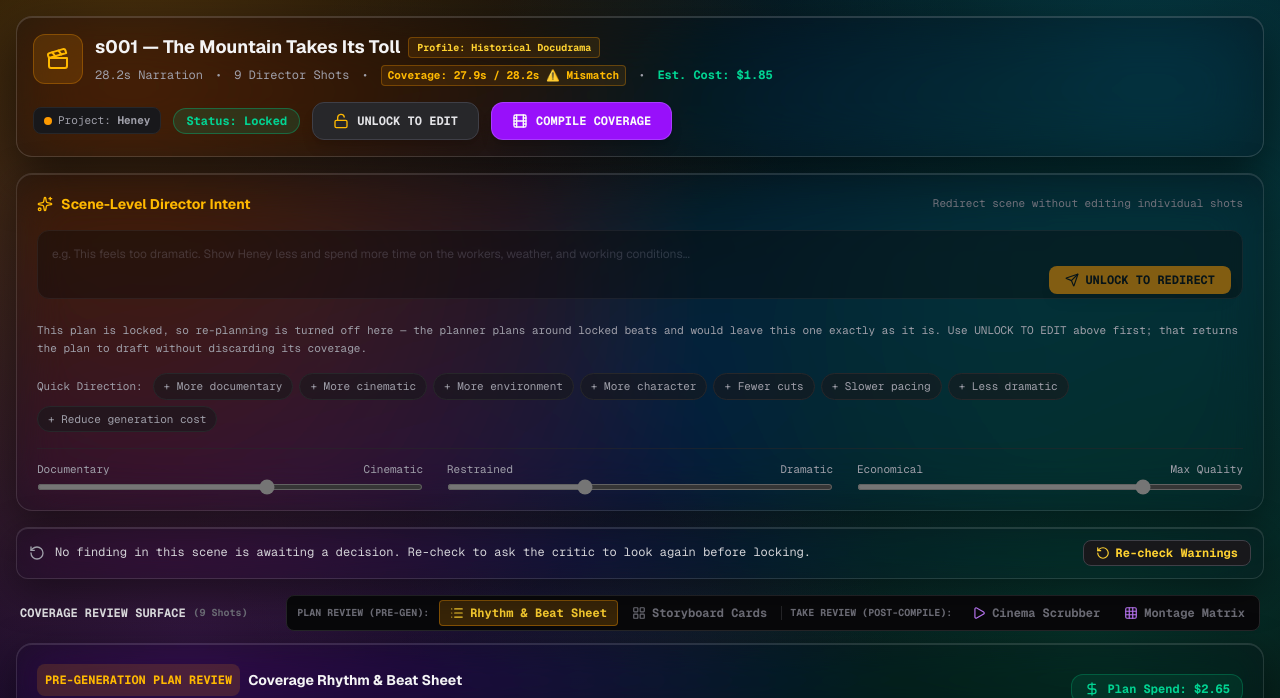
Scenario: the control the studio did not have › pressing COMPILE COVERAGE commits no money
What coordinates should you click on to do the following:
click the button with test id "compile-open-gate"
I would click on:
 (582, 121)
Its box is [491,102,672,140].
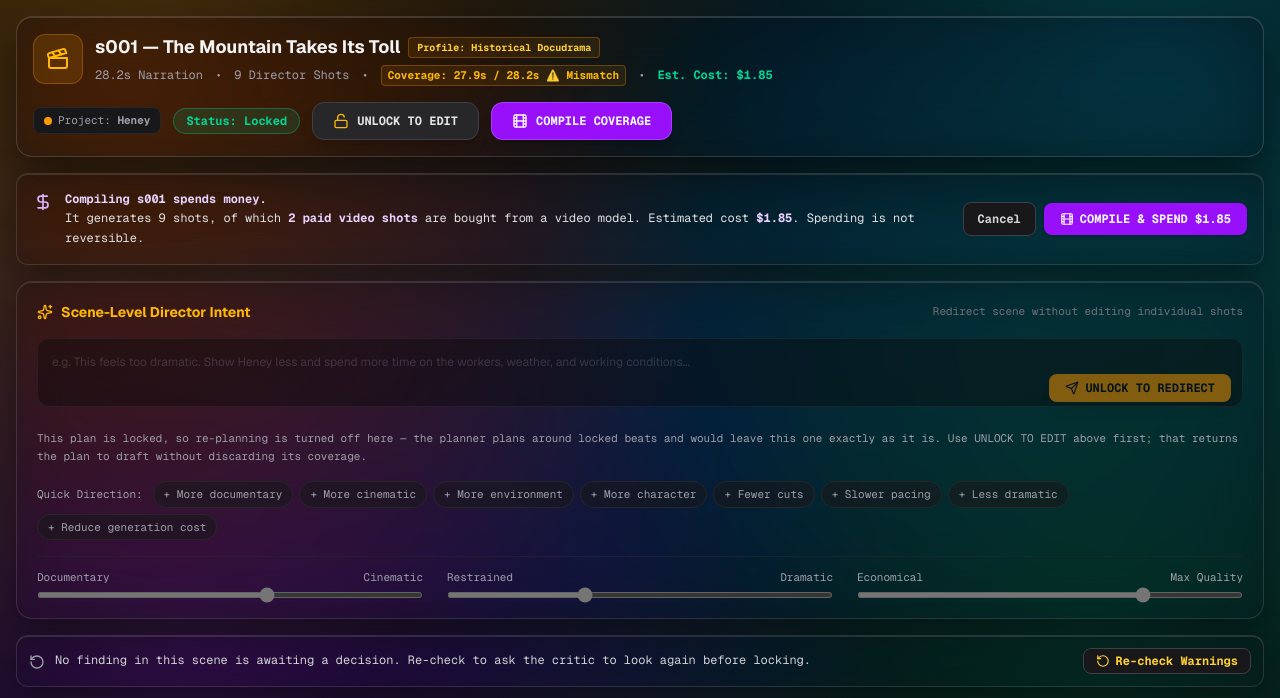
Expected: the element with test id "compile-cost-gate" is shown, [16,173,1264,265]
